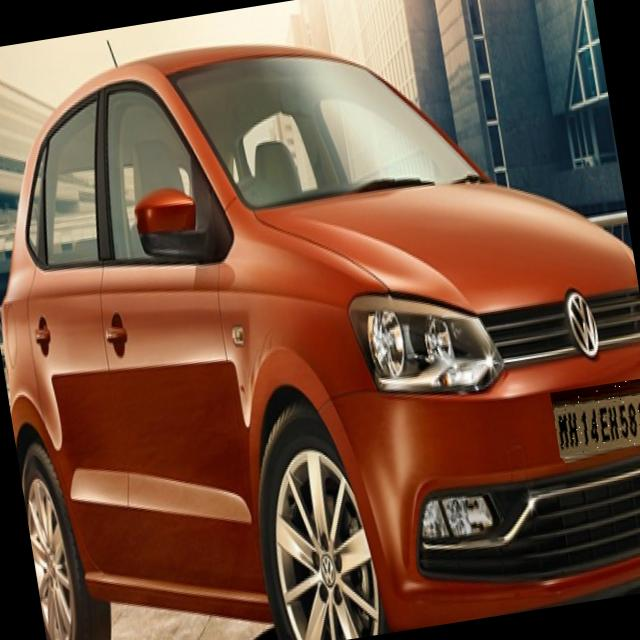Plate: (551, 378, 640, 459)
